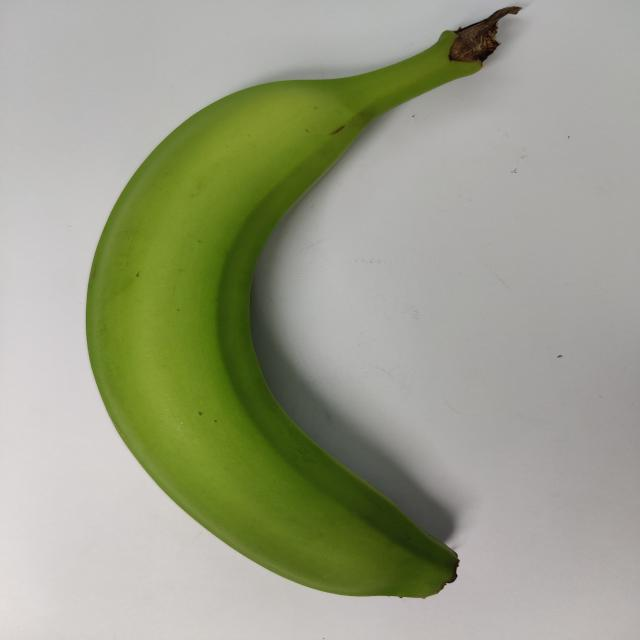raw: (45, 10, 572, 610)
